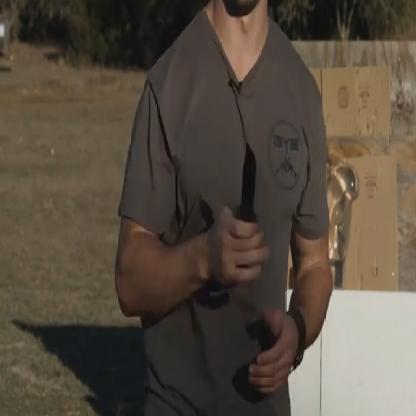knife: (226, 138, 269, 278)
